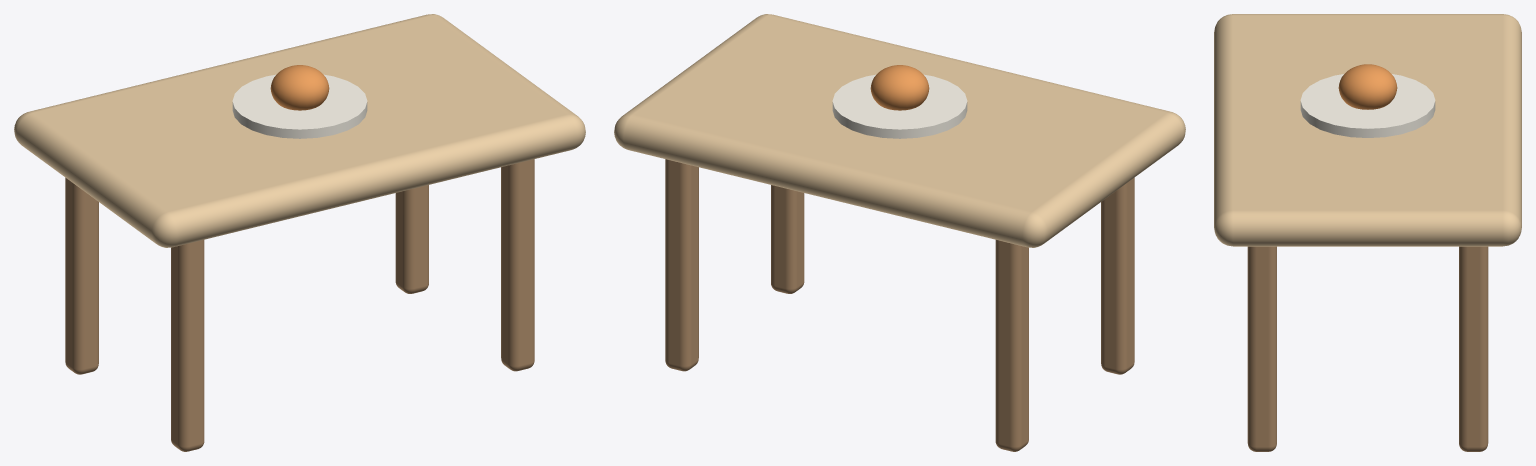
Rendered from table.glb.
3 renders of one model, left to right at view 1: azimuth 30°, elevation 25°; view 2: azimuth 150°, elevation 25°; view 3: azimuth 270°, elevation 25°, orthographic.
Parts seen in each view (by area): view 1: table; view 2: table; view 3: table.
Boxes of the visible parts, bbox=[...] form: table: bbox=[14, 14, 585, 451]; table: bbox=[614, 14, 1185, 451]; table: bbox=[1214, 14, 1521, 451].
Bounding box in the file's own units: 1.7 × 1.13 × 1.05.
